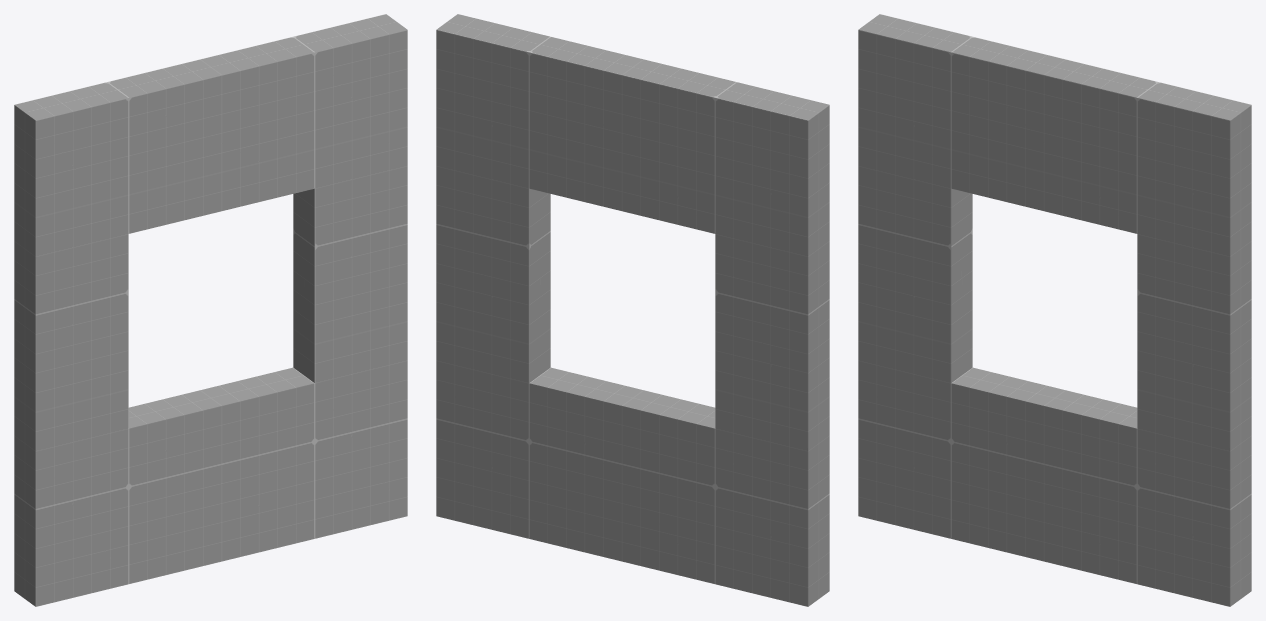
The model's file is Window_1x2.002.fbx.
3 renders of one model, left to right at view 1: azimuth 30°, elevation 25°; view 2: azimuth 150°, elevation 25°; view 3: azimuth 330°, elevation 25°, orthographic.
Parts seen in each view (by area): view 1: Window_1x2.002; view 2: Window_1x2.002; view 3: Window_1x2.002.
Boxes of the visible parts, x1,y1,x2,y2 form: Window_1x2.002: (14, 14, 407, 606); Window_1x2.002: (436, 14, 829, 606); Window_1x2.002: (858, 14, 1251, 606).
Size of the model in its own units: 200 by 250 by 20.
